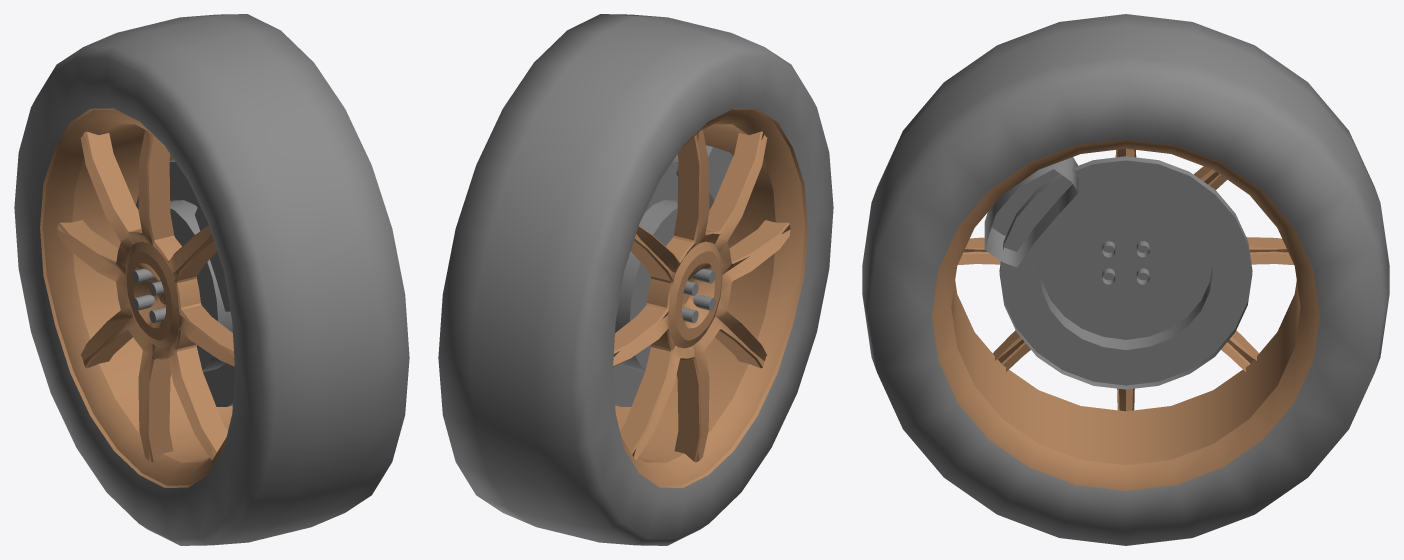
3 views of the same model, side by side, from view 1: azimuth 30°, elevation 25°; view 2: azimuth 150°, elevation 25°; view 3: azimuth 270°, elevation 25° (orthographic).
Parts seen in each view (by area): view 1: a_1; view 2: a_1; view 3: a_1.
Part boxes in pixels (x1,y1,x2,y2): a_1: [14, 14, 409, 545]; a_1: [438, 14, 833, 545]; a_1: [862, 14, 1389, 545].
Size of the model in its own units: 22.79 by 69.41 by 69.41.
